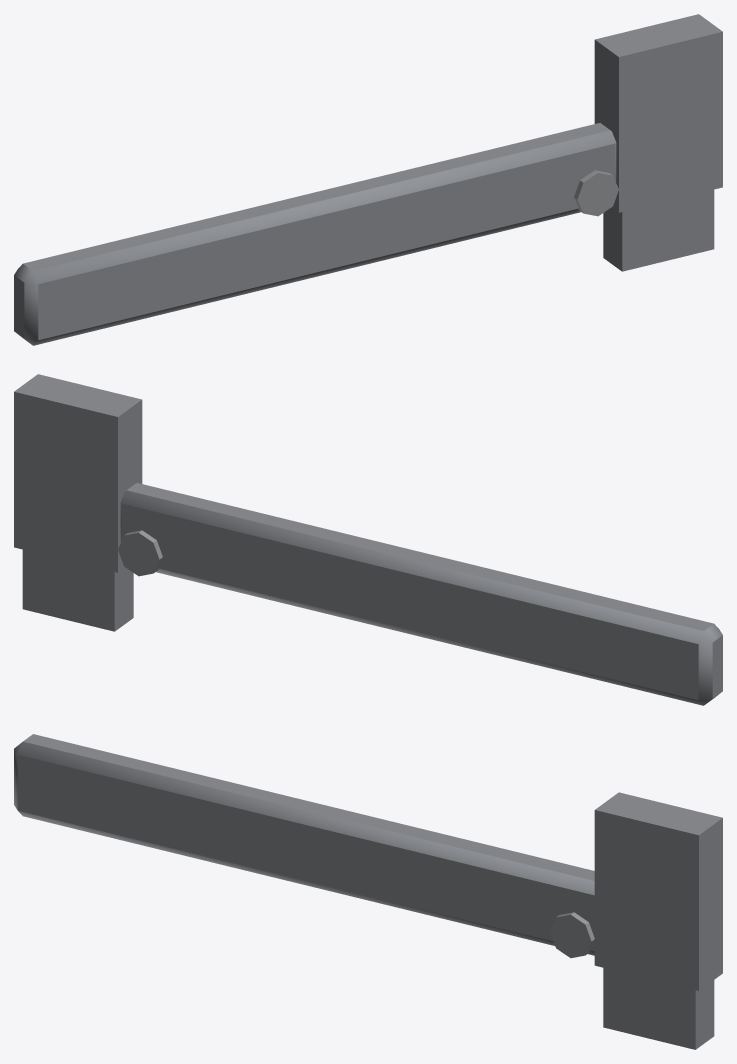
File: SM_Llave_Inglesa.fbx
3 renders of one model, top to bottom at view 1: azimuth 30°, elevation 25°; view 2: azimuth 150°, elevation 25°; view 3: azimuth 330°, elevation 25°, orthographic.
Parts seen in each view (by area): view 1: SM_Llave_Inglesa; view 2: SM_Llave_Inglesa; view 3: SM_Llave_Inglesa.
Part boxes in pixels (x1=…): SM_Llave_Inglesa: x1=14, y1=14, x2=722, y2=345; SM_Llave_Inglesa: x1=14, y1=374, x2=722, y2=705; SM_Llave_Inglesa: x1=14, y1=734, x2=722, y2=1049.
Bounding box in the file's own units: 0.2325 × 0.07 × 0.016.
